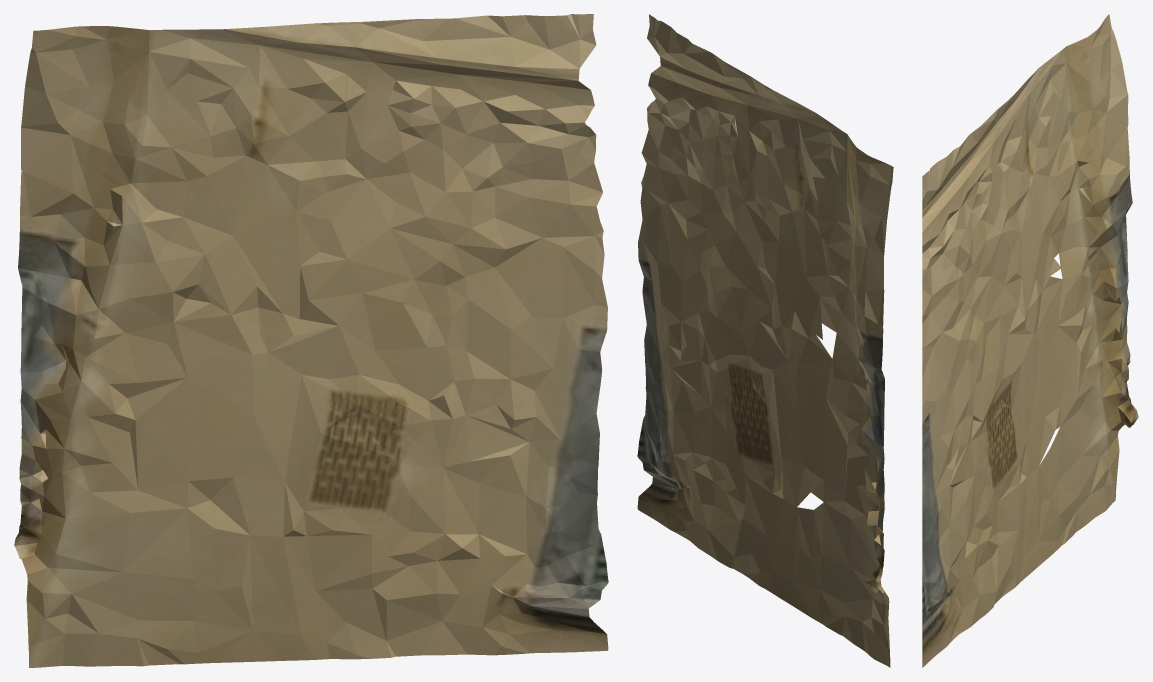
The picture shows the model from 3 angles, left to right: view 1: azimuth 30°, elevation 25°; view 2: azimuth 150°, elevation 25°; view 3: azimuth 270°, elevation 25°; orthographic projection. The views are drawn at different scales.
Bounding box in the file's own units: 2.48 × 3.35 × 1.35.
2 materials, 2 textured.
